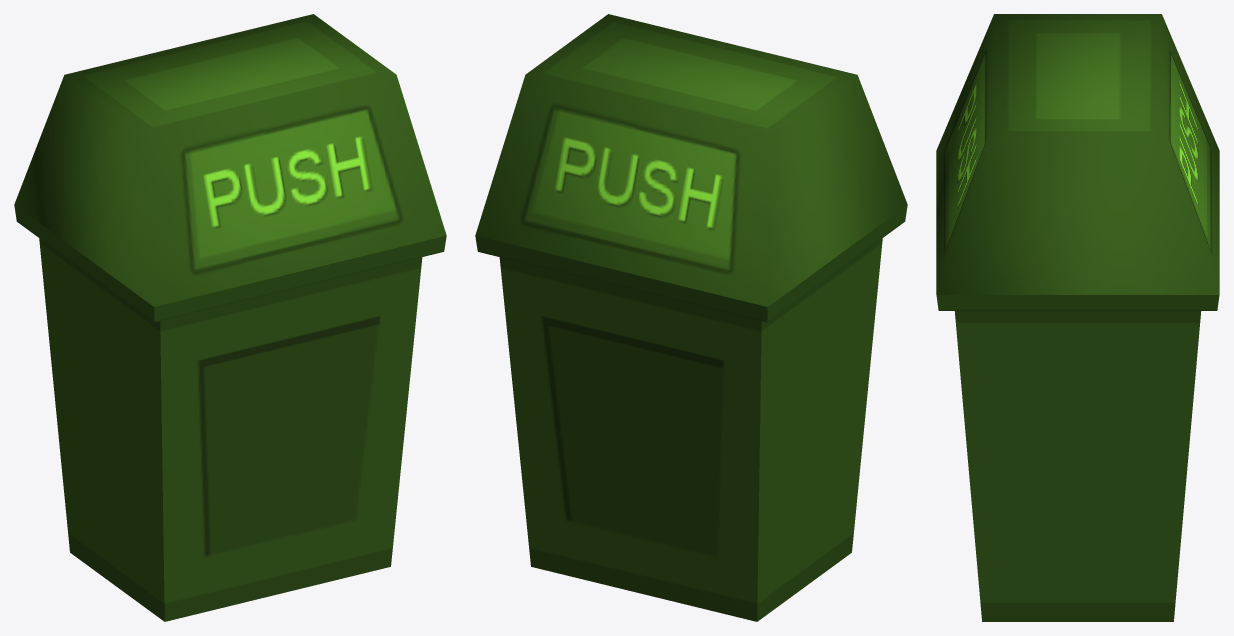
The model's file is city_bin.fbx.
The picture shows the model from 3 angles, left to right: view 1: azimuth 30°, elevation 25°; view 2: azimuth 150°, elevation 25°; view 3: azimuth 270°, elevation 25°; orthographic projection.
Parts seen in each view (by area): view 1: city:polySurface244; view 2: city:polySurface244; view 3: city:polySurface244.
Boxes of the visible parts, x1,y1,x2,y2 form: city:polySurface244: (14, 14, 446, 621); city:polySurface244: (475, 14, 907, 621); city:polySurface244: (936, 14, 1219, 621).
Size of the model in its own units: 0.7097 by 1.12 by 0.588.
